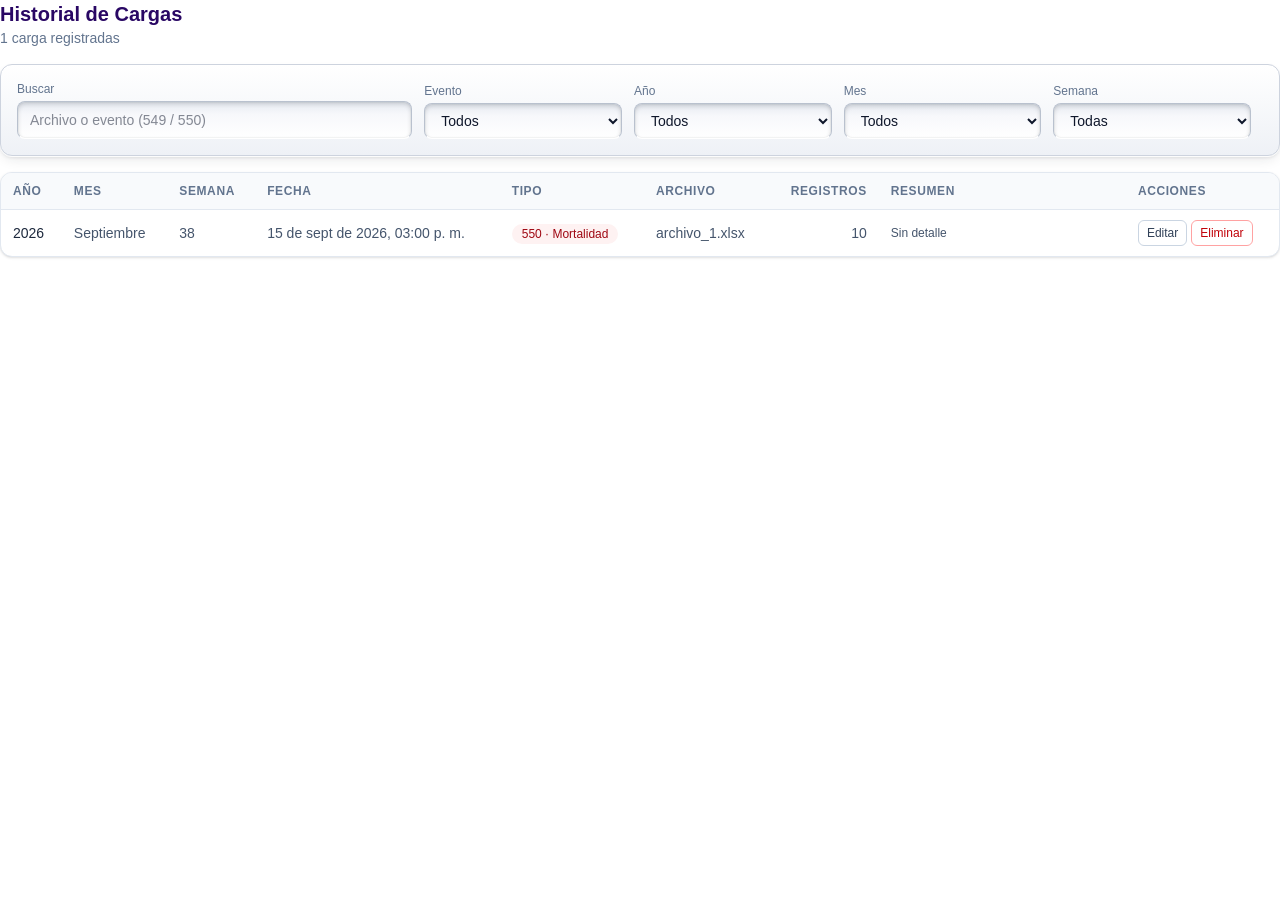
UploadHistorySection › edita una carga: envía nombre y fecha en hora local y recarga el historial
Click the button with aria-label "Editar archivo_1.xlsx".
click(1163, 233)  # box [1138,220,1187,246]
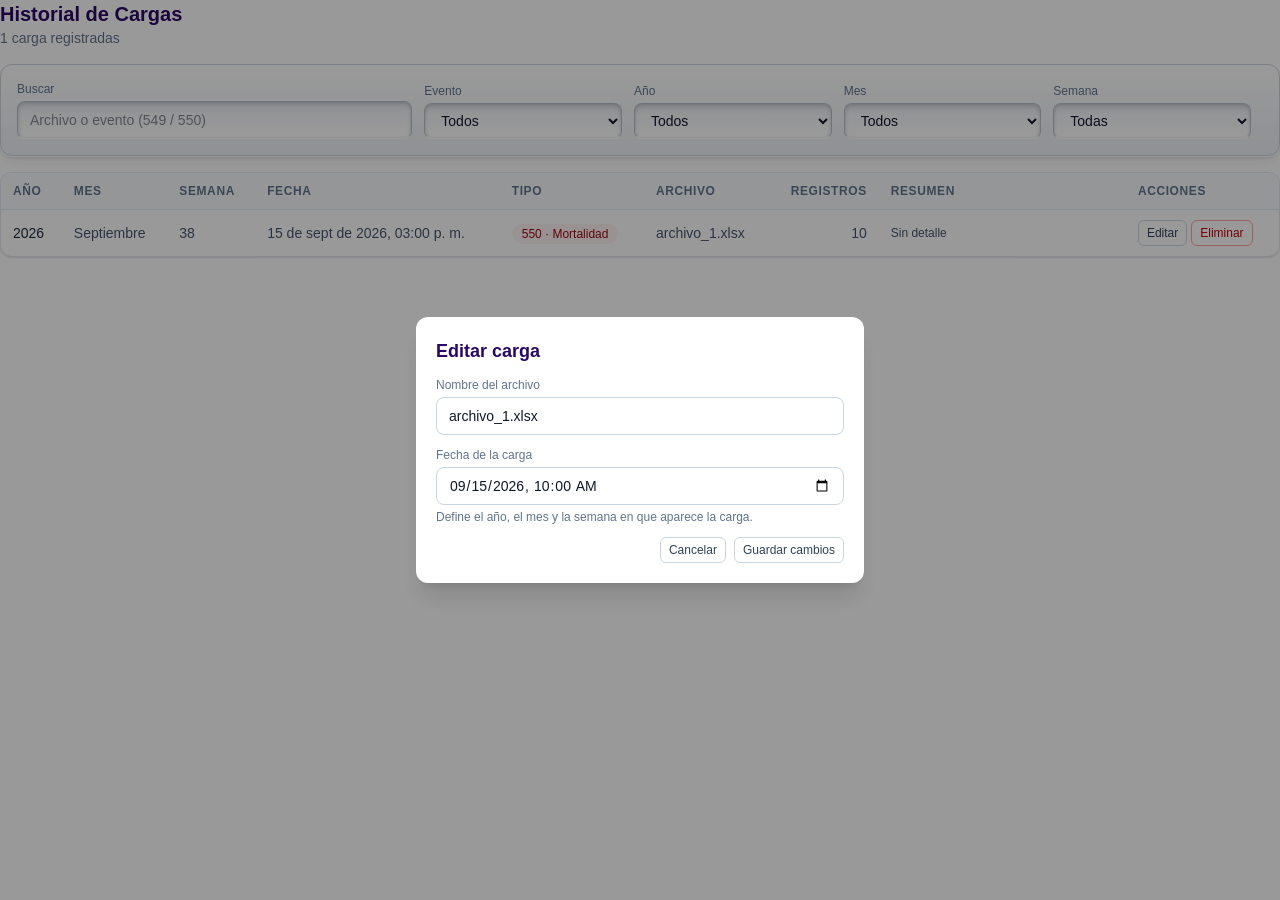
Now the dialog "Editar carga" is shown, box [416,317,864,583]
Now the field labelled "Fecha de la carga" holds "2026-09-15T10:00", box [436,467,844,505]
Replace the text in the field labelled "Nombre del archivo" with "corregido.xlsx" at (640, 416), box [436,397,844,435]
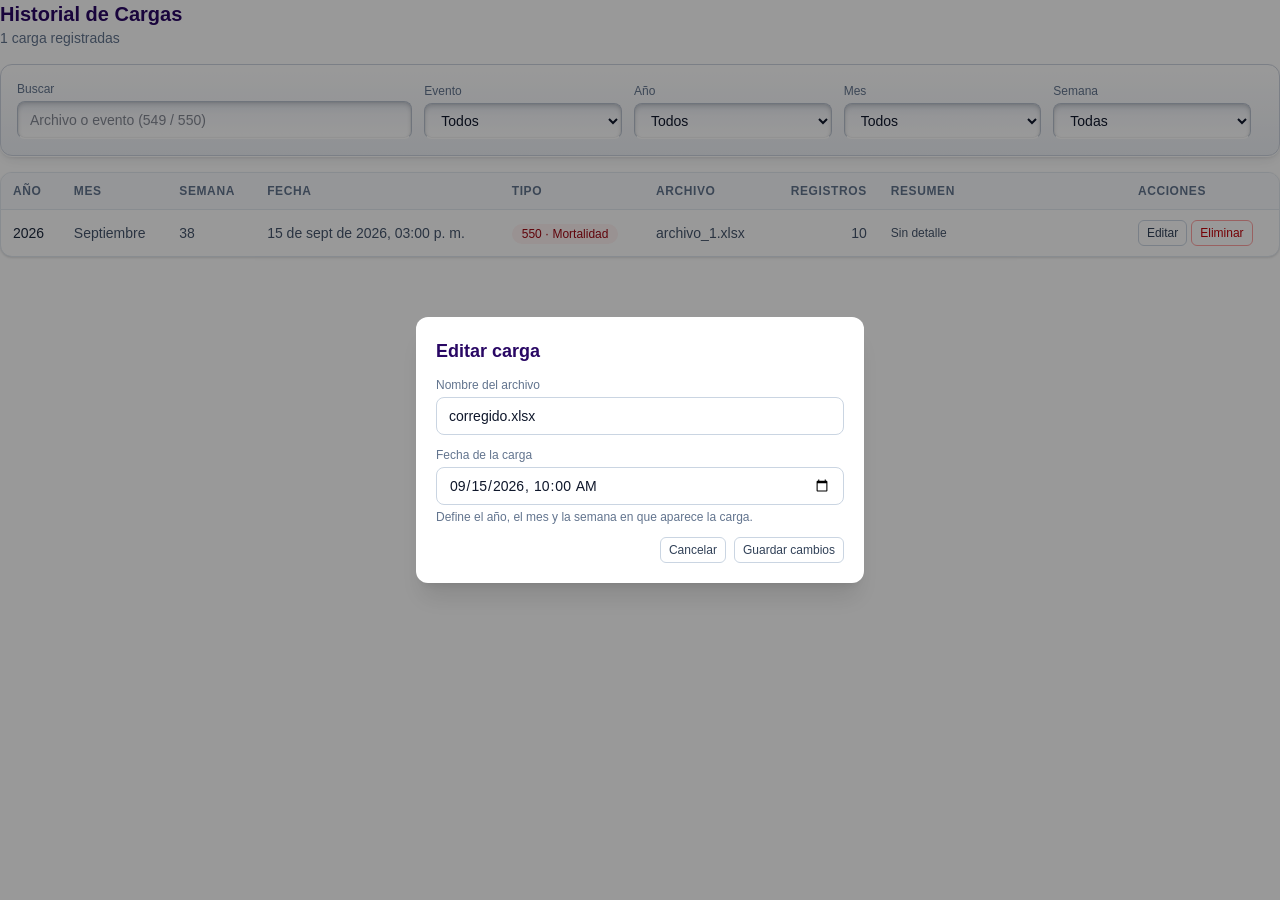
Click the button "Guardar cambios".
click(789, 550)  # box [734,537,844,563]
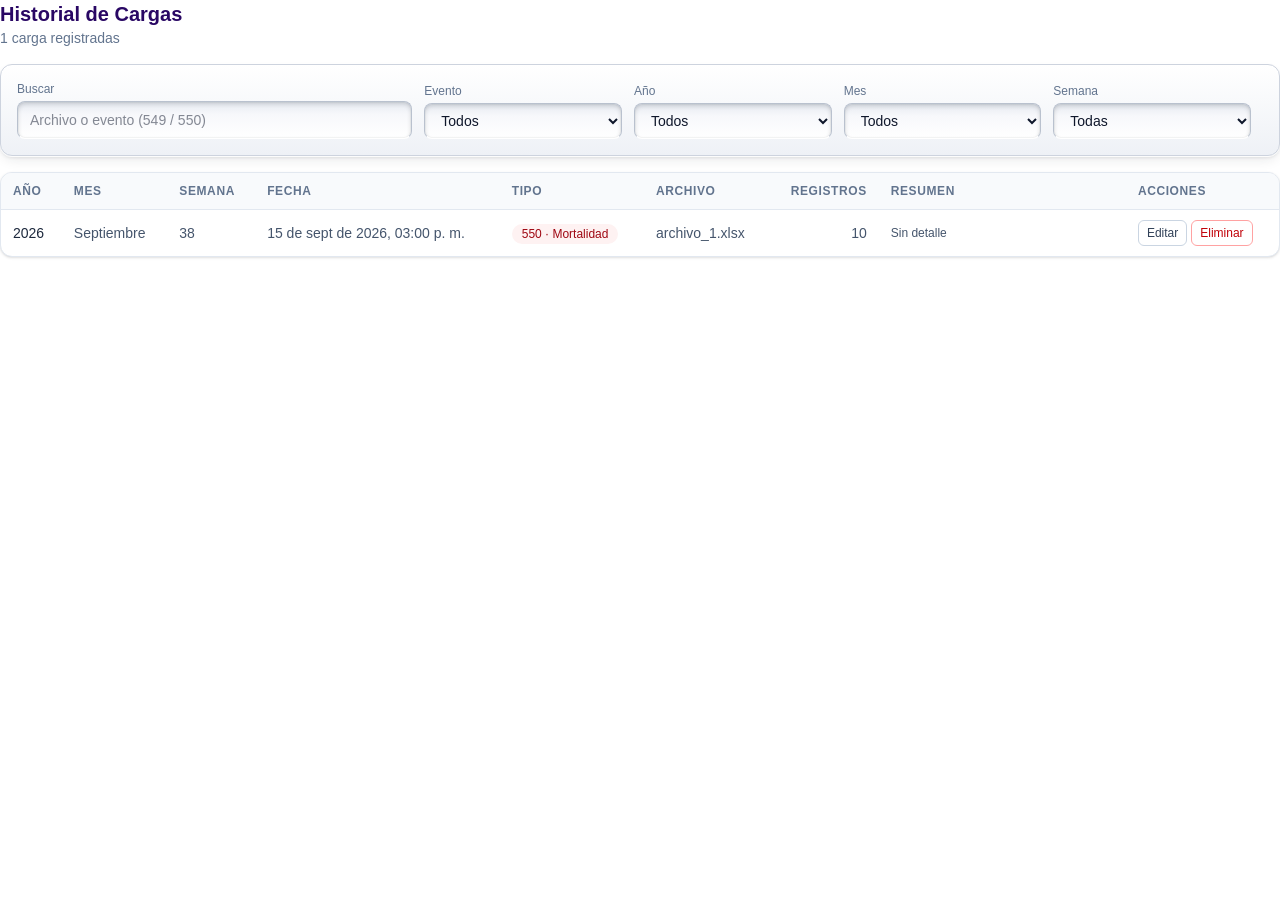
Now the dialog is gone
